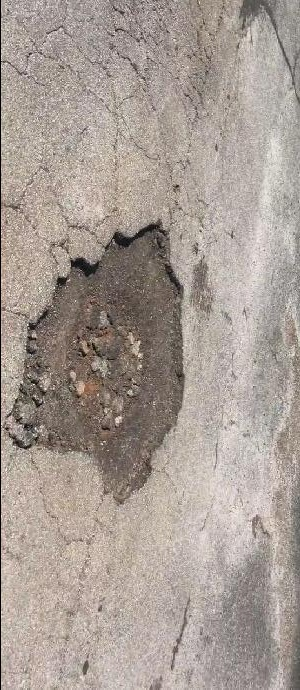pothole: (5, 215, 192, 508)
